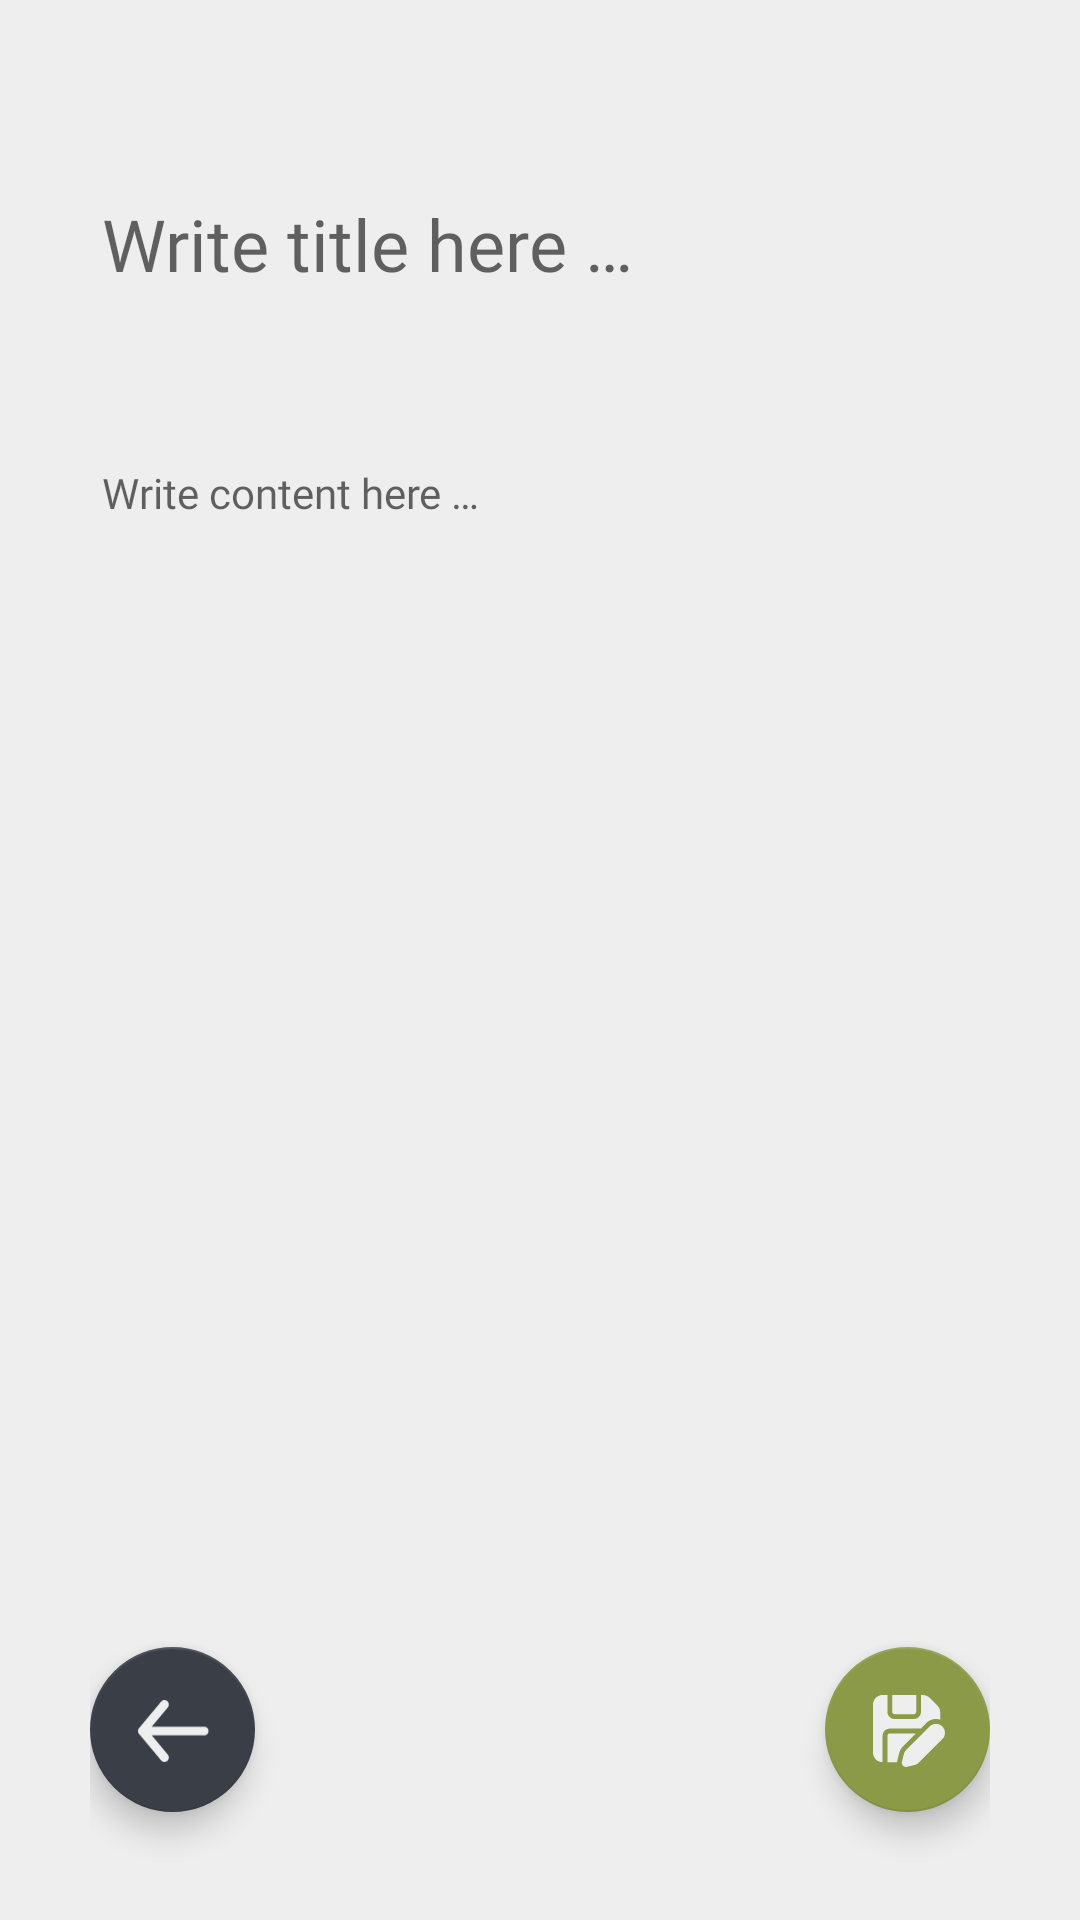

Point at icon controls on the screen. Image size 1080px×1920px, points as (x=x, y=y).
back: (x=172, y=1729)
save: (x=907, y=1729)
